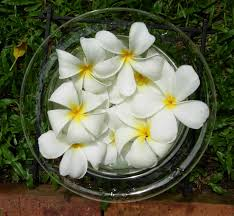frangipani: (95, 22, 164, 94)
